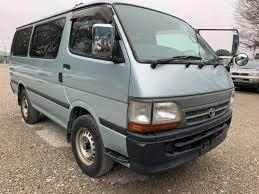Van: (9, 1, 240, 175)
